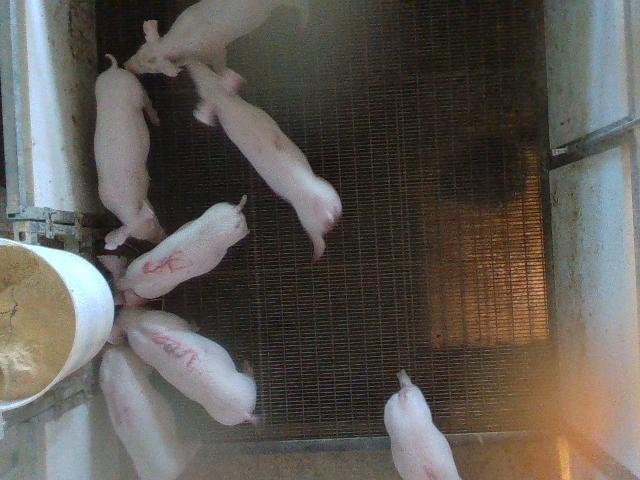pig-1: (384, 370, 460, 479)
pig-3: (109, 289, 256, 425)
pig-4: (100, 345, 195, 479)
pig-5: (99, 196, 248, 298)
